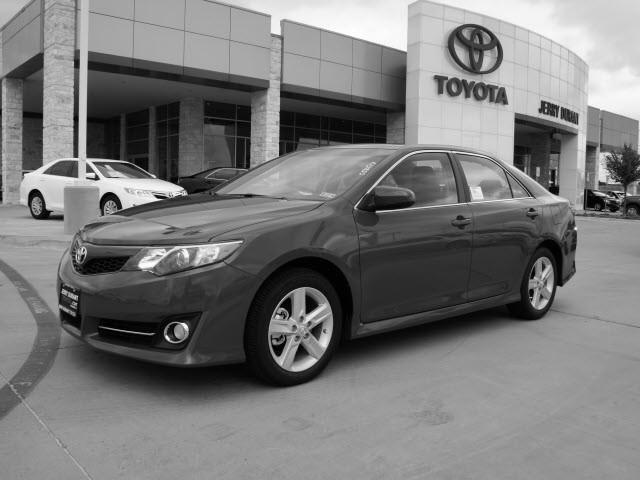car: (55, 140, 579, 387)
